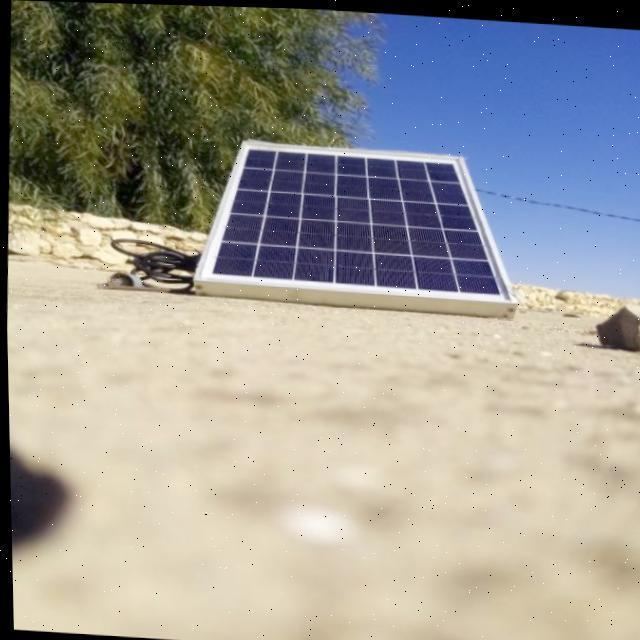Normal Solar Panel: (195, 138, 520, 298)
